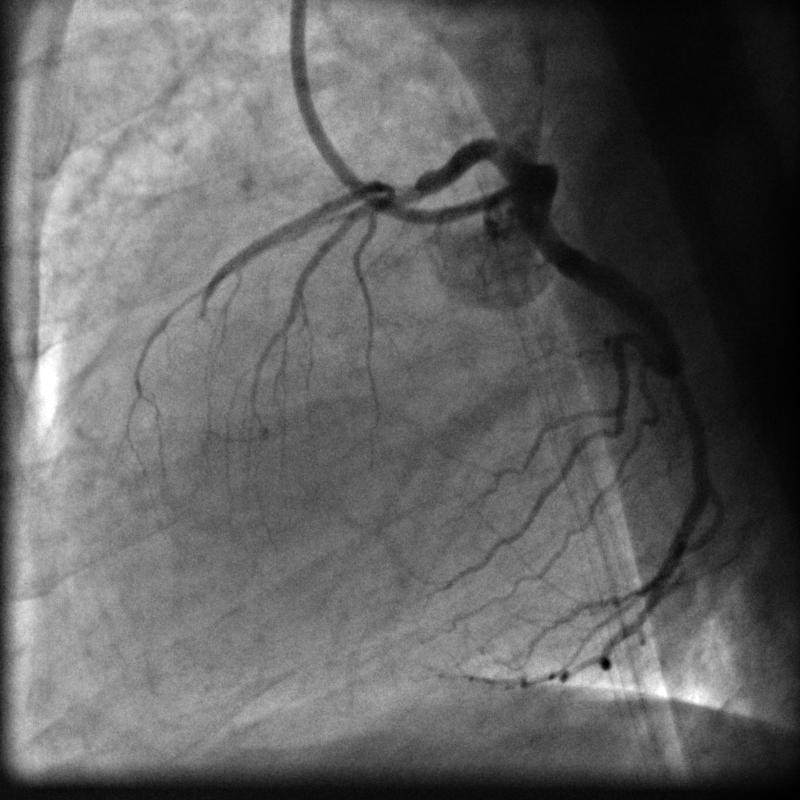Stenosis: (366, 171, 435, 213)
